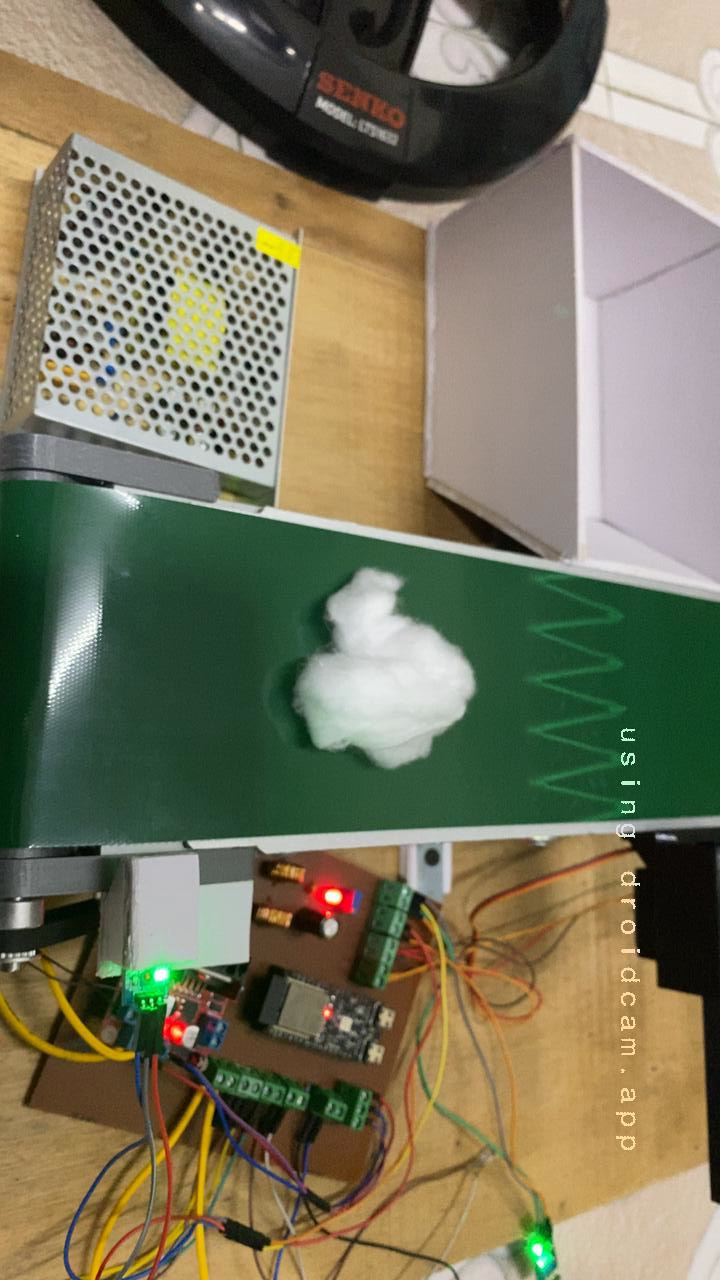cotton: (264, 547, 491, 785)
